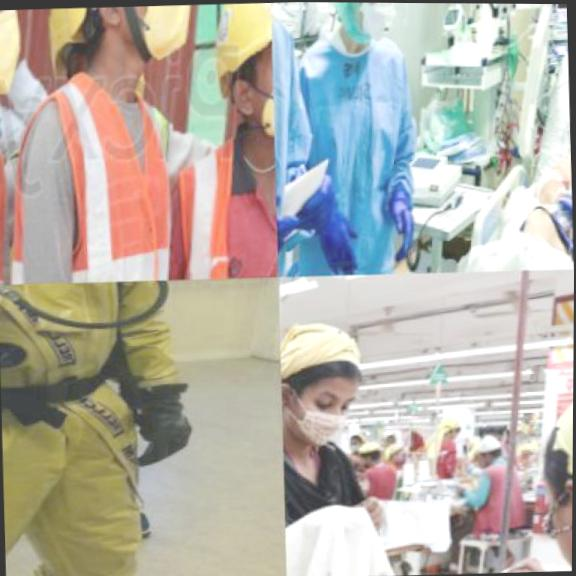safety_vest: (0, 278, 191, 576), (3, 65, 200, 284), (291, 43, 431, 276), (168, 136, 279, 279), (0, 108, 28, 283)
